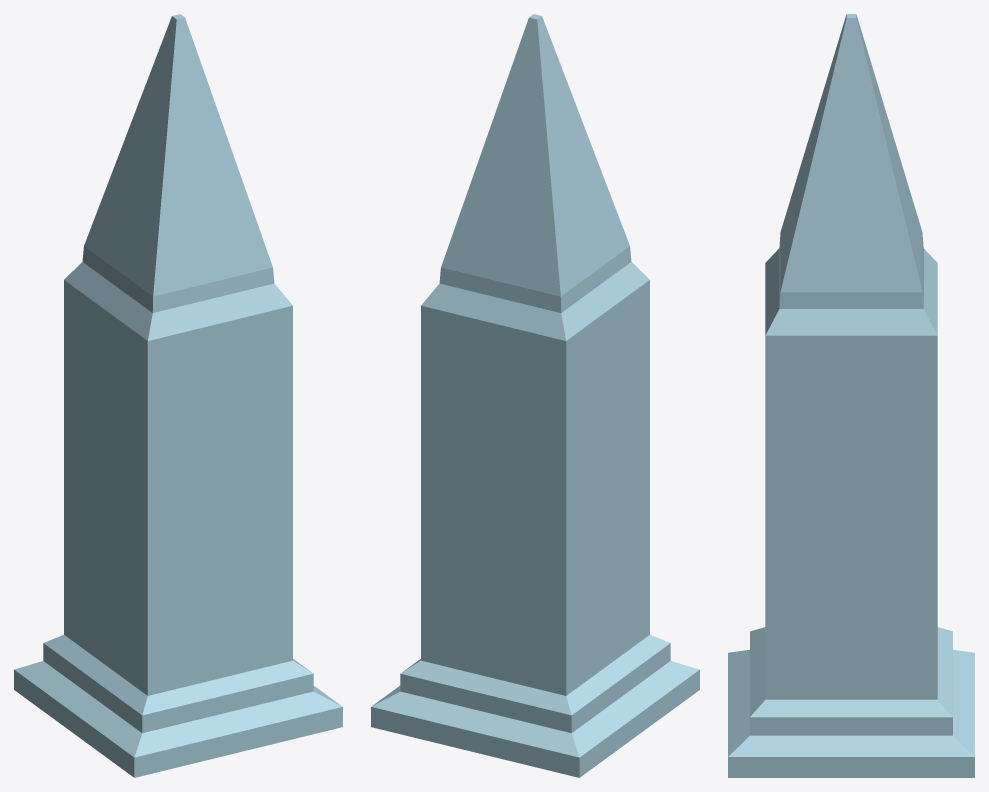
Rendered from Pillar.fbx.
The picture shows the model from 3 angles, left to right: view 1: azimuth 30°, elevation 25°; view 2: azimuth 150°, elevation 25°; view 3: azimuth 270°, elevation 25°; orthographic projection. The views are drawn at different scales.
Visible parts, largest first — view 1: Cube; view 2: Cube; view 3: Cube.
Part boxes in pixels (box(x1,y1,x2,y2)): Cube: box(14, 14, 342, 777); Cube: box(371, 14, 699, 777); Cube: box(728, 14, 974, 777).
Size of the model in its own units: 772 by 2447 by 772.
